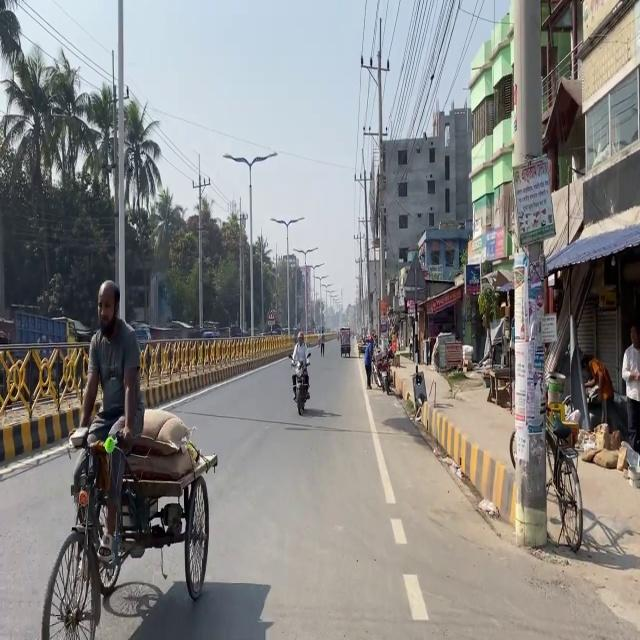Construction-barrier: (406, 386, 510, 482)
Fallen-tree: (289, 352, 311, 415)
Garbage-bin: (75, 279, 144, 559), (621, 323, 639, 453)
Light-pole: (508, 0, 548, 548), (113, 1, 127, 322)
Pole: (0, 330, 335, 480)
Pothole: (387, 348, 639, 632)
Traffic-cone: (48, 417, 226, 633)
